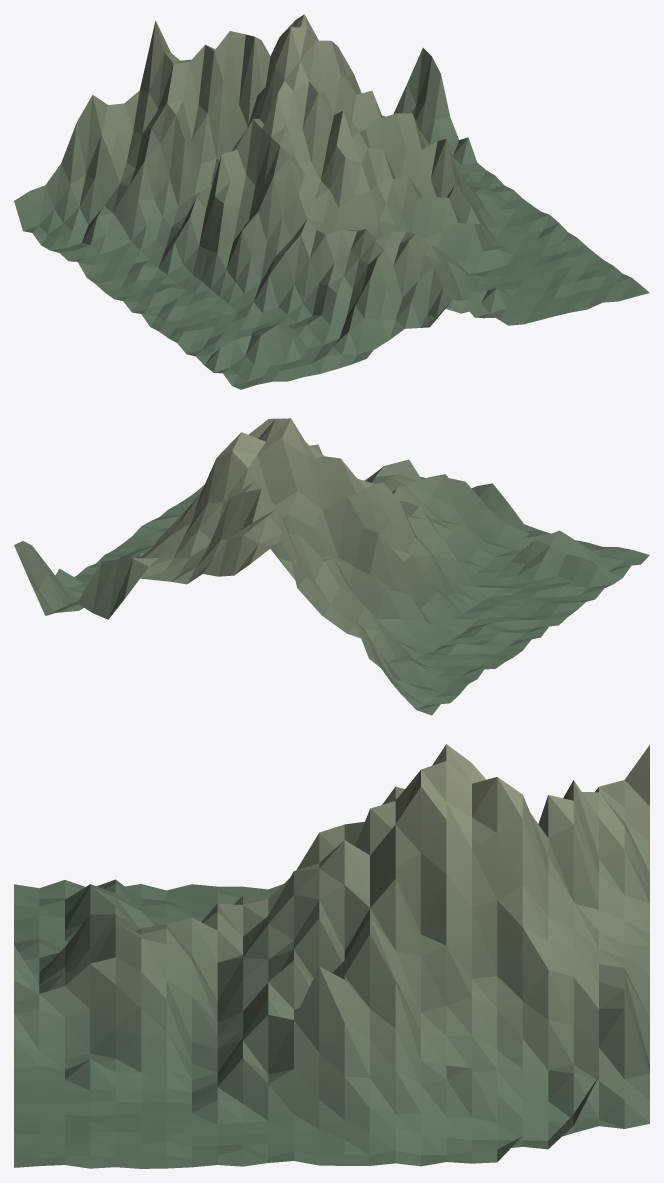
File: tile_0_2.glb
3 renders of one model, top to bottom at view 1: azimuth 30°, elevation 25°; view 2: azimuth 150°, elevation 25°; view 3: azimuth 270°, elevation 25°, orthographic. The views are drawn at different scales.
Visible parts, largest first — view 1: geometry_0; view 2: geometry_0; view 3: geometry_0.
Part boxes in pixels (left/top/right/bottom): geometry_0: left=14, top=14, right=649, bottom=389; geometry_0: left=14, top=418, right=649, bottom=715; geometry_0: left=14, top=744, right=649, bottom=1168.
Bounding box in the file's own units: 127 × 60.83 × 123.
